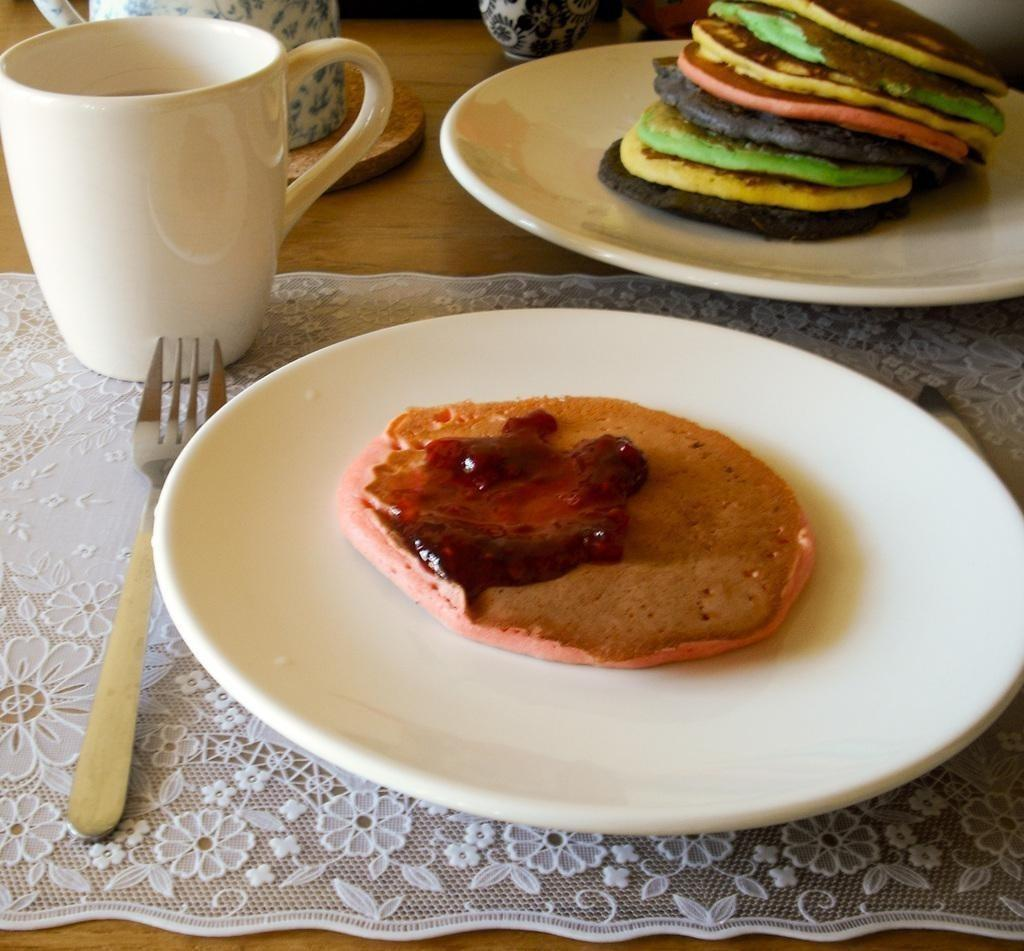cup-handle: (0, 13, 396, 383)
